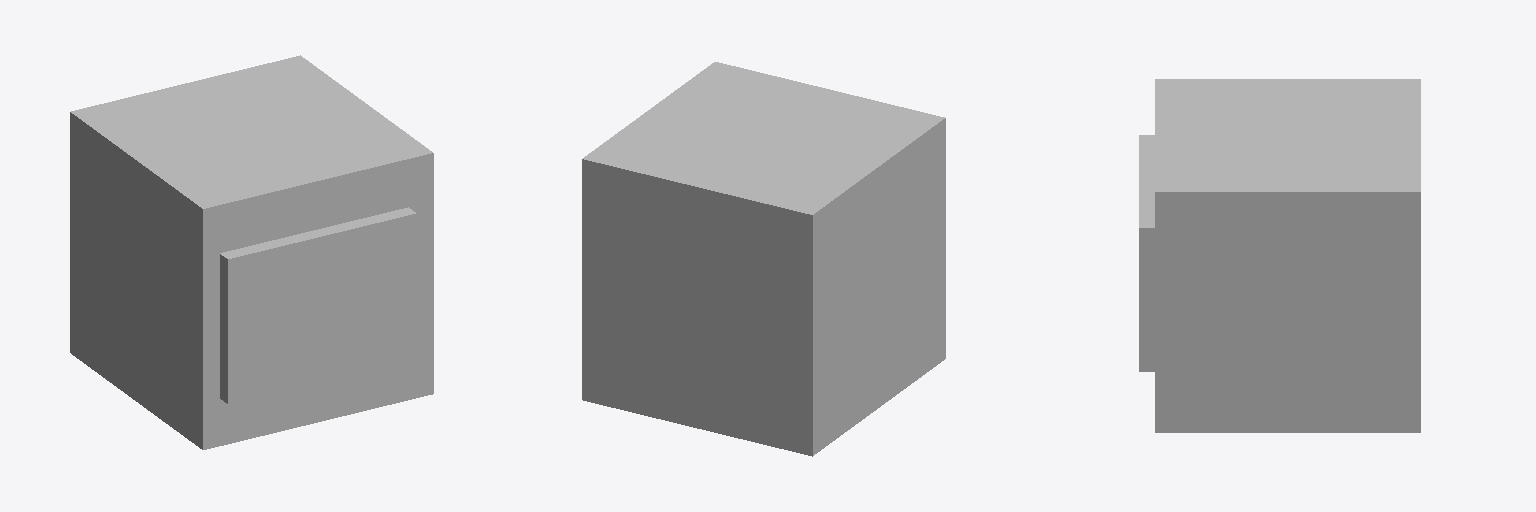
The model's file is cooking_smelter_close.obj.
The picture shows the model from 3 angles: view 1: azimuth 30°, elevation 25°; view 2: azimuth 150°, elevation 25°; view 3: azimuth 270°, elevation 25°; orthographic projection.
Parts seen in each view (by area): view 1: Cube.001, Cube.002; view 2: Cube.001; view 3: Cube.001, Cube.002.
Boxes of the visible parts, <box> form: Cube.001: <box>70,55,433,449</box>; Cube.002: <box>220,207,416,403</box>; Cube.001: <box>582,62,945,456</box>; Cube.001: <box>1155,79,1420,432</box>; Cube.002: <box>1139,135,1154,371</box>.
Size of the model in its own units: 1 by 1 by 1.06.